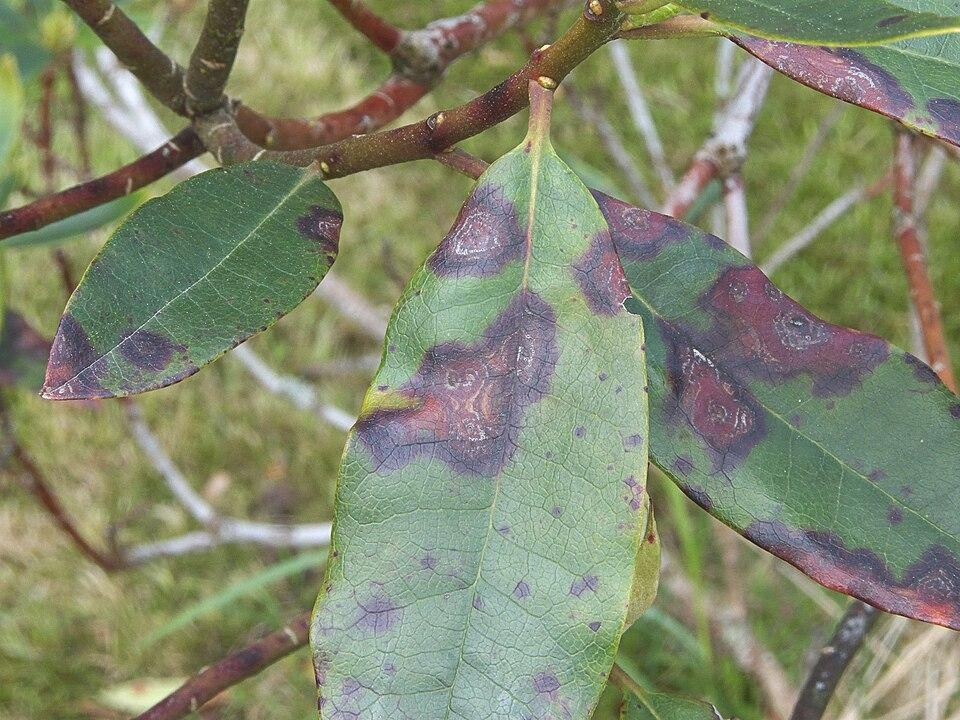late_blight: (655, 261, 893, 460), (356, 297, 558, 473), (739, 520, 959, 626), (739, 39, 959, 144), (45, 313, 209, 399), (573, 191, 684, 315), (426, 185, 526, 278), (297, 205, 342, 250)
